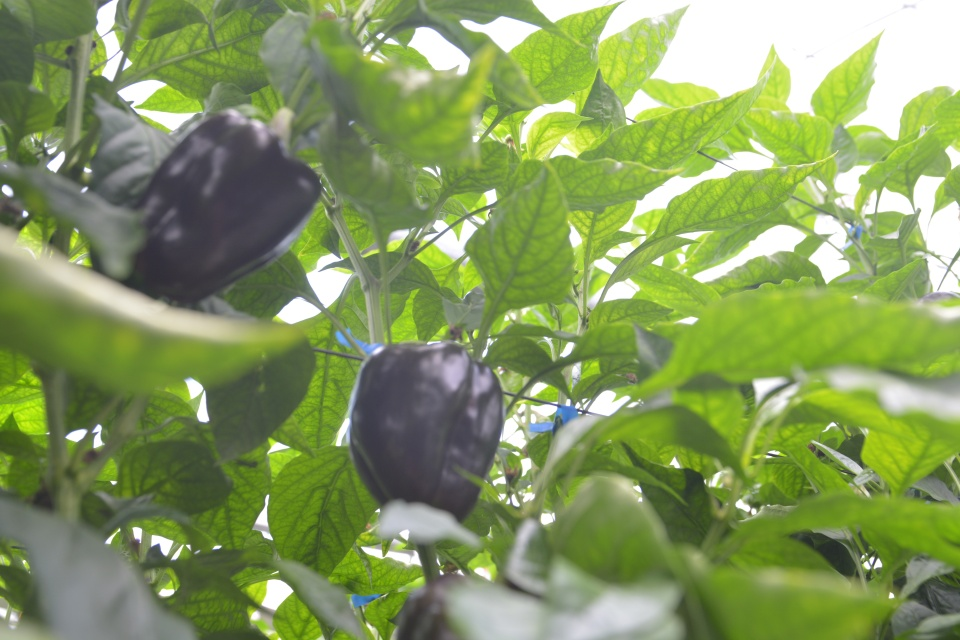fruit: (91, 108, 324, 308), (342, 330, 507, 533)
